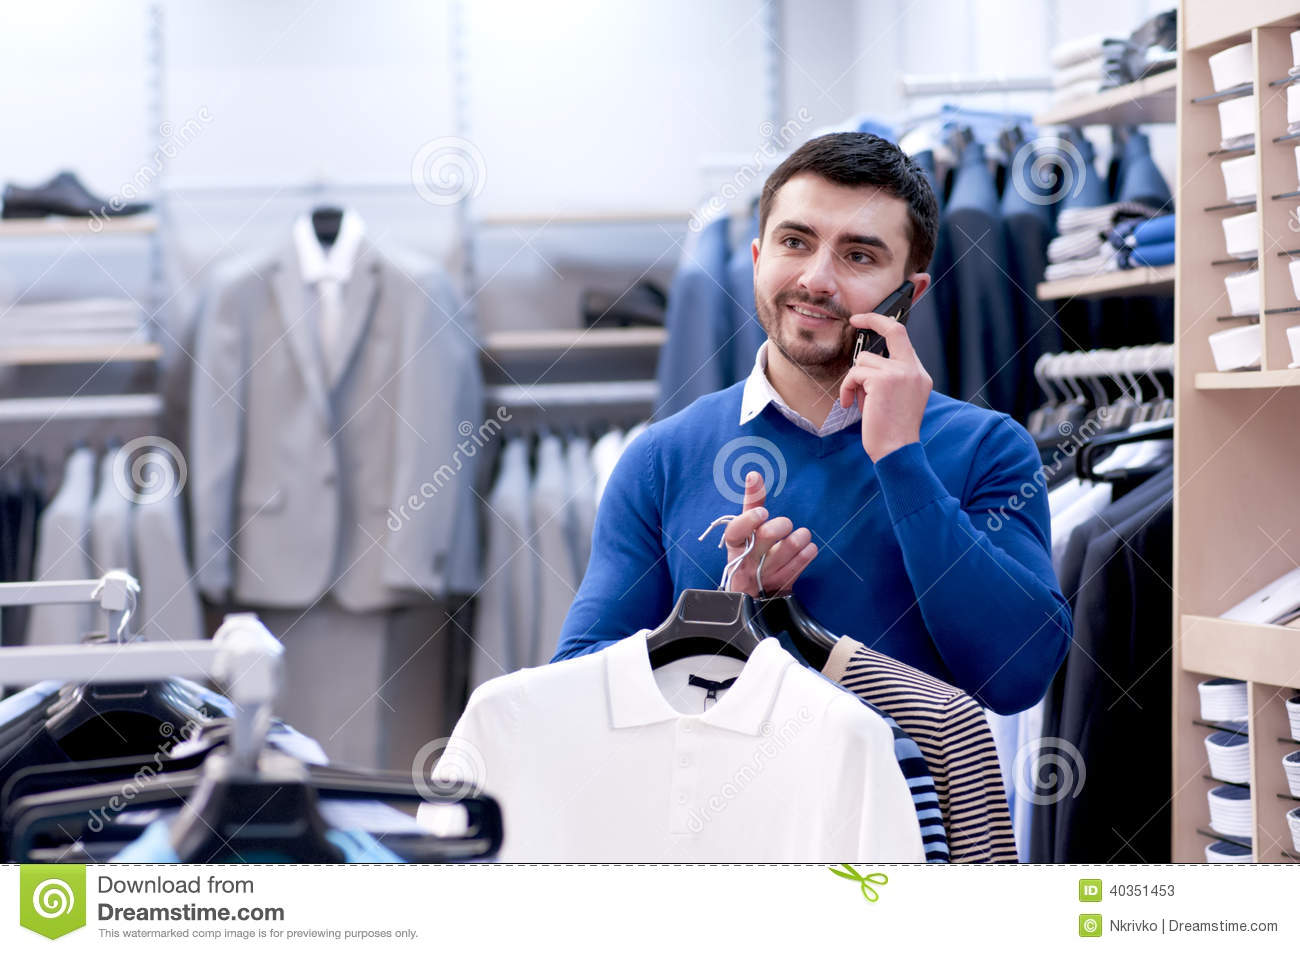phone: (855, 283, 916, 363)
talk: (758, 209, 939, 453)
